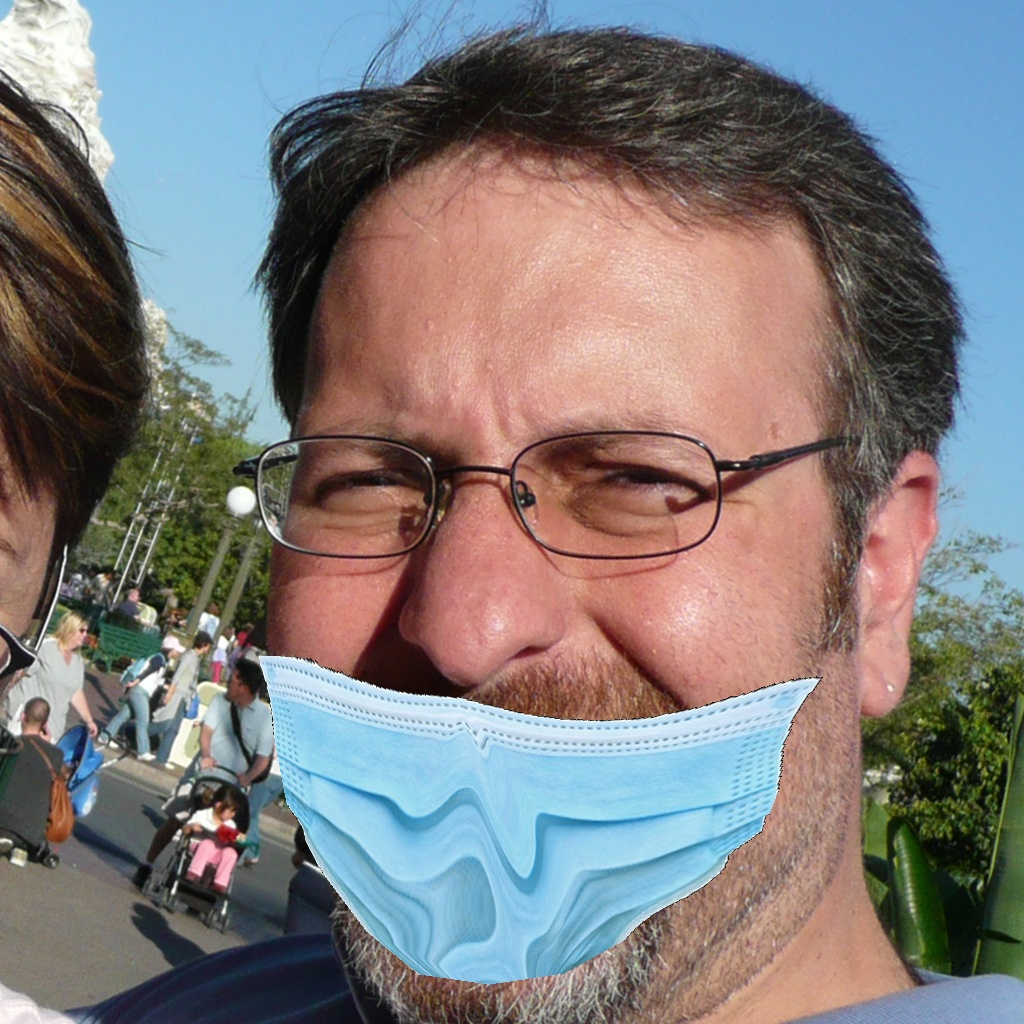mascarilla_mal_puesta: (287, 368, 882, 990)
